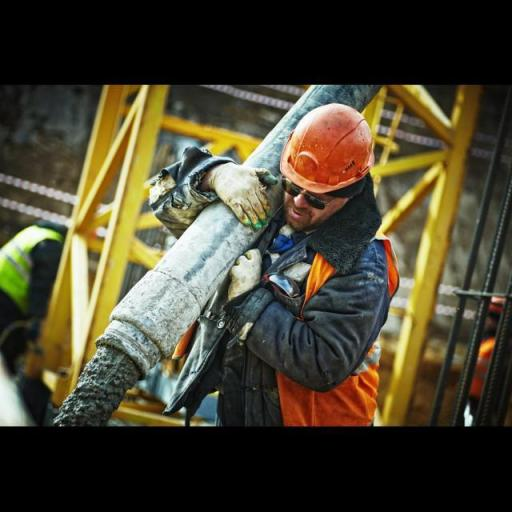Person: (147, 91, 437, 463)
gloves: (208, 155, 277, 233), (224, 246, 266, 302)
goggles: (277, 177, 347, 211)
helmet: (280, 103, 378, 189)
vest: (254, 220, 402, 427)
